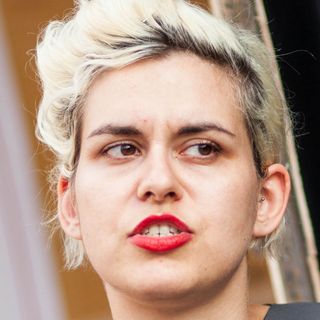eye: (178, 138, 227, 163), (98, 138, 146, 163)
